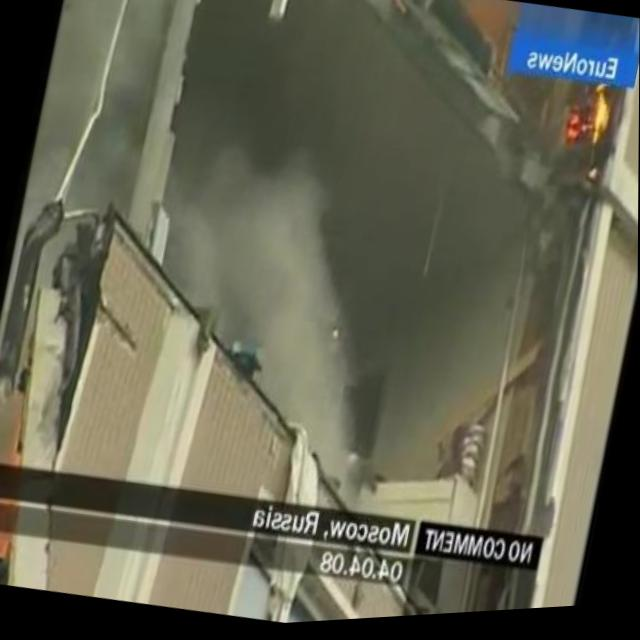fire: (560, 81, 615, 157)
